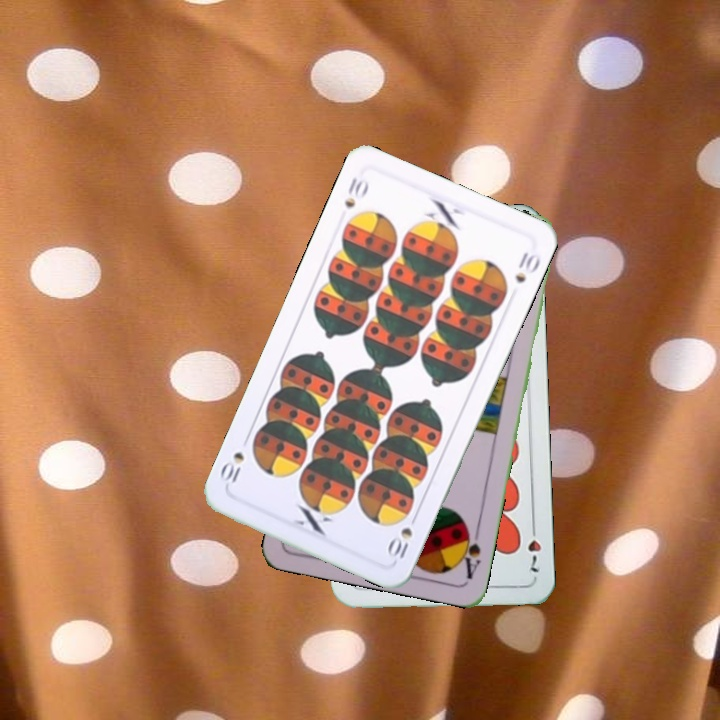H7: (524, 519, 544, 576)
S10: (384, 509, 421, 564), (340, 172, 372, 211)
SA: (455, 521, 484, 582)
